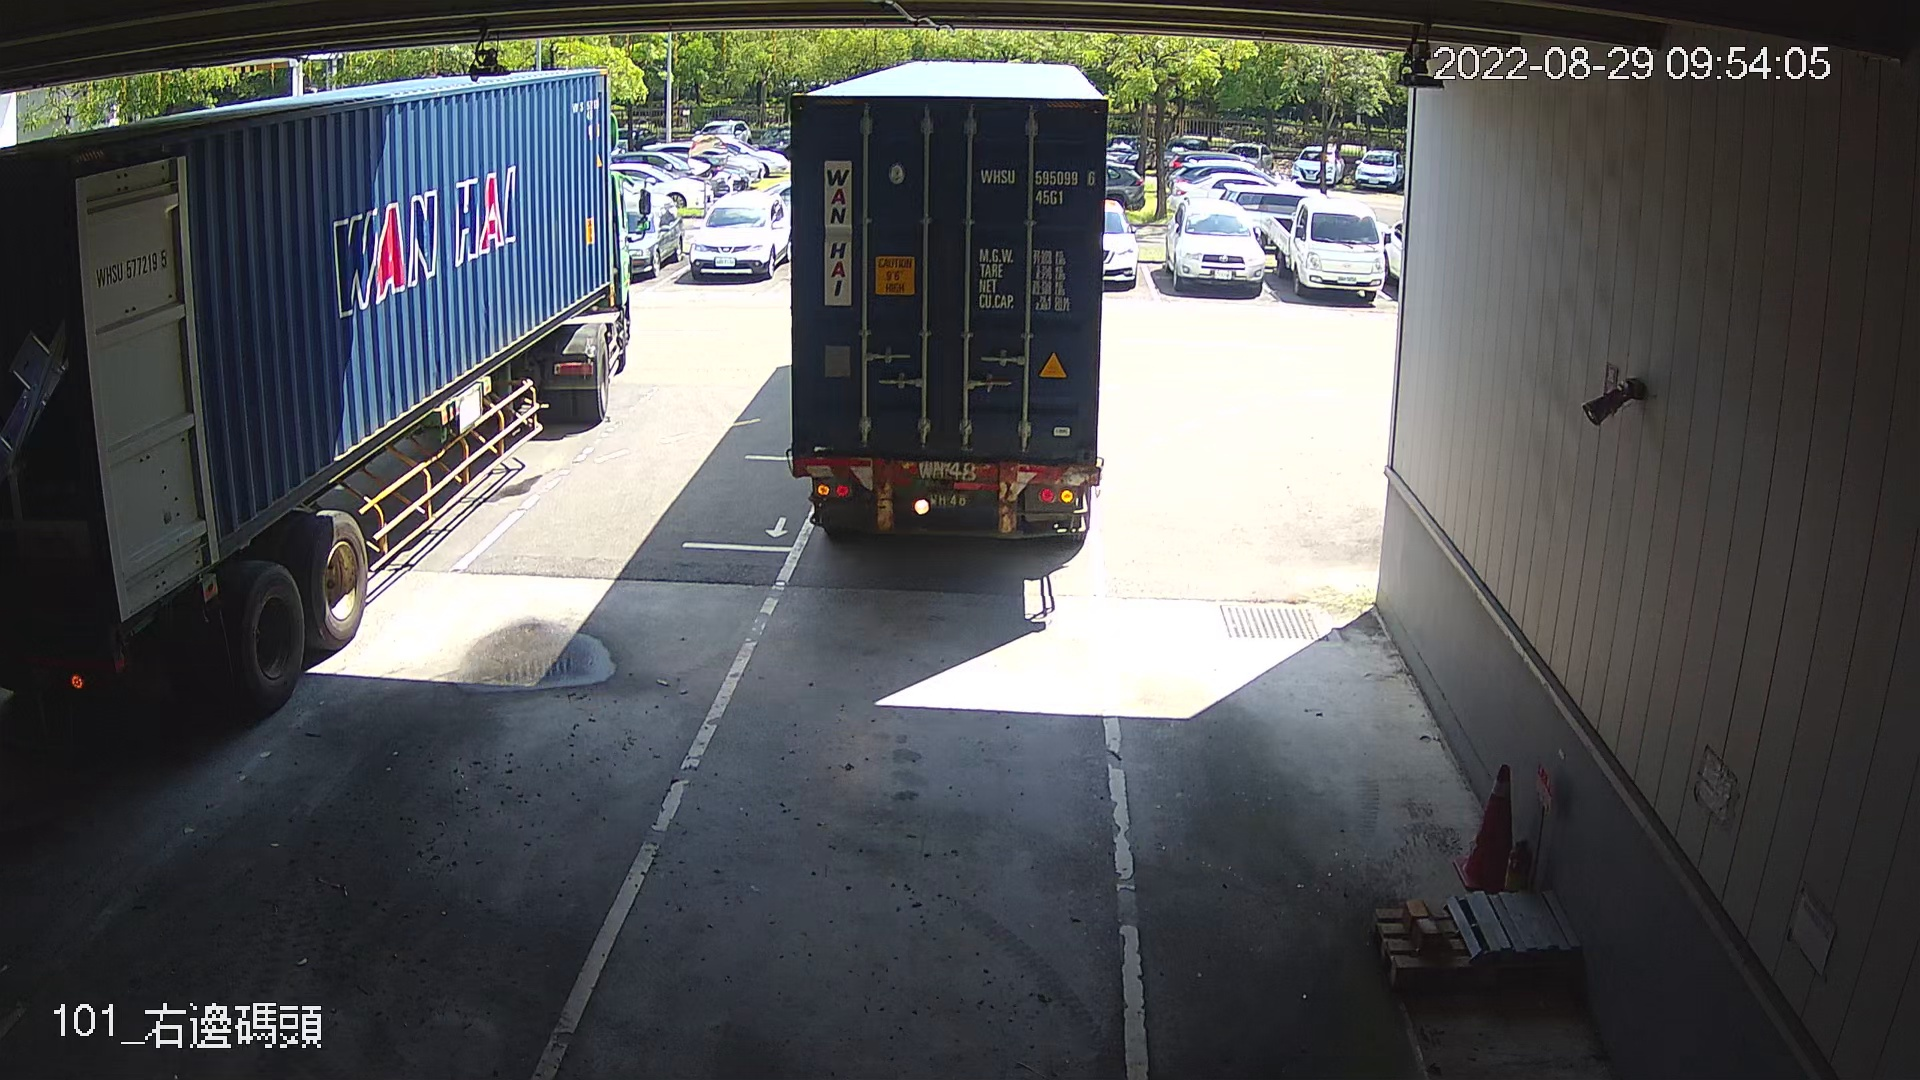container: (973, 160, 1102, 212)
